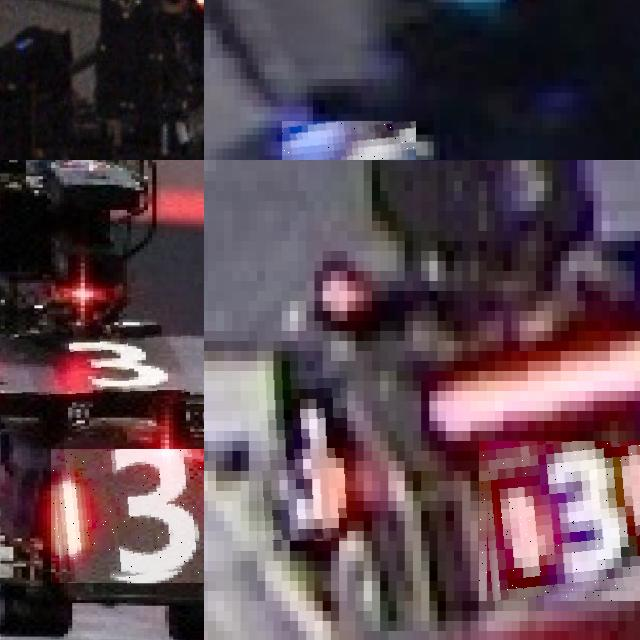B1: (282, 120, 415, 160)
R3: (478, 441, 640, 601), (51, 448, 204, 583), (0, 325, 204, 412), (249, 371, 347, 541)
